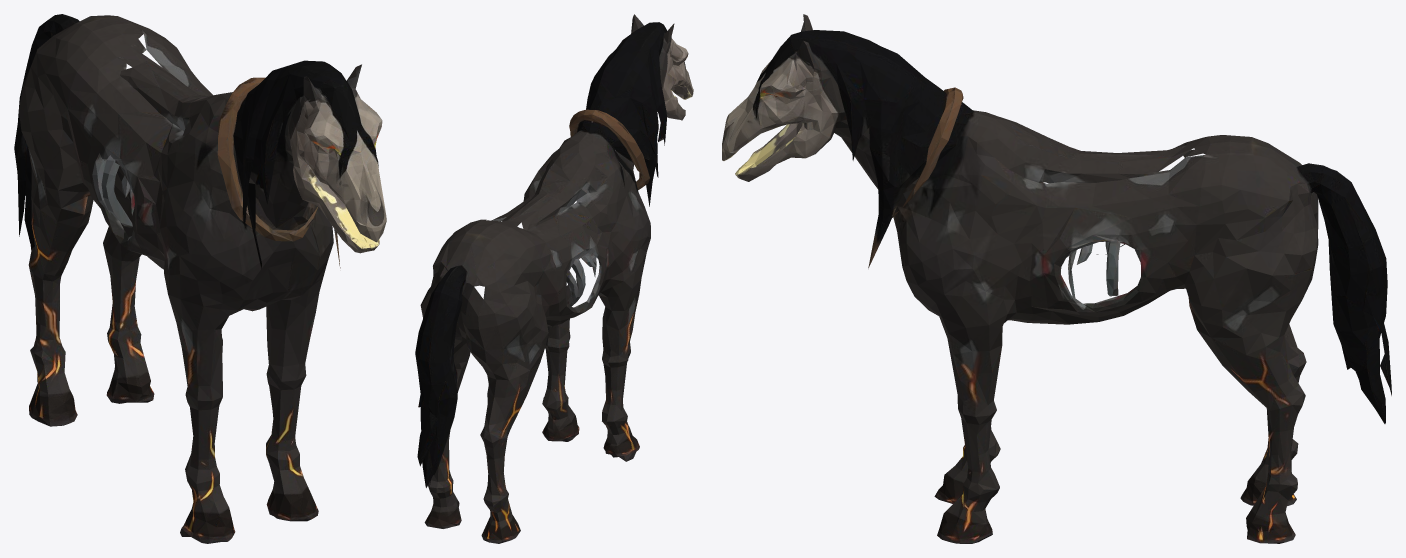
File: modelo.glb
3 views of the same model, side by side, from view 1: azimuth 30°, elevation 25°; view 2: azimuth 150°, elevation 25°; view 3: azimuth 270°, elevation 25° (orthographic). The views are drawn at different scales.
Parts seen in each view (by area): view 1: yacare; view 2: yacare; view 3: yacare.
Boxes of the visible parts, bbox=[...] form: yacare: bbox=[14, 14, 386, 543]; yacare: bbox=[415, 14, 693, 543]; yacare: bbox=[722, 14, 1391, 543].
Size of the model in its own units: 0.6349 by 2.18 by 2.68.
Materials: 1 (1 with a texture image).
